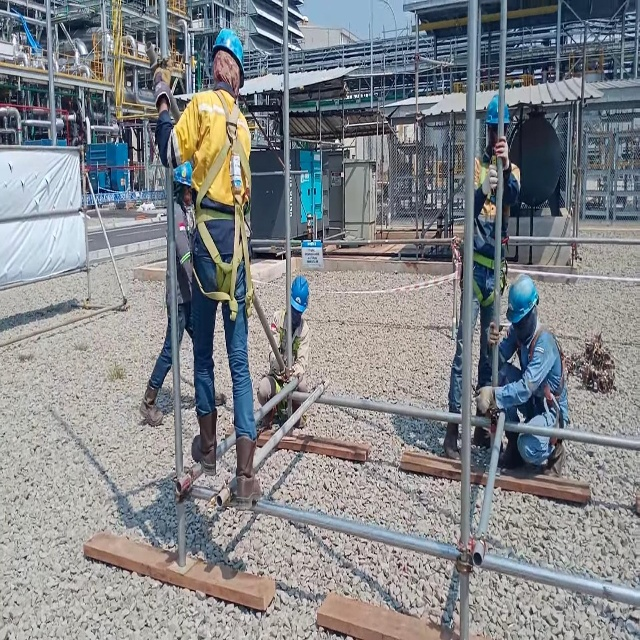Arnes_seguridad: (187, 85, 253, 319), (516, 328, 569, 451), (473, 149, 510, 309)
